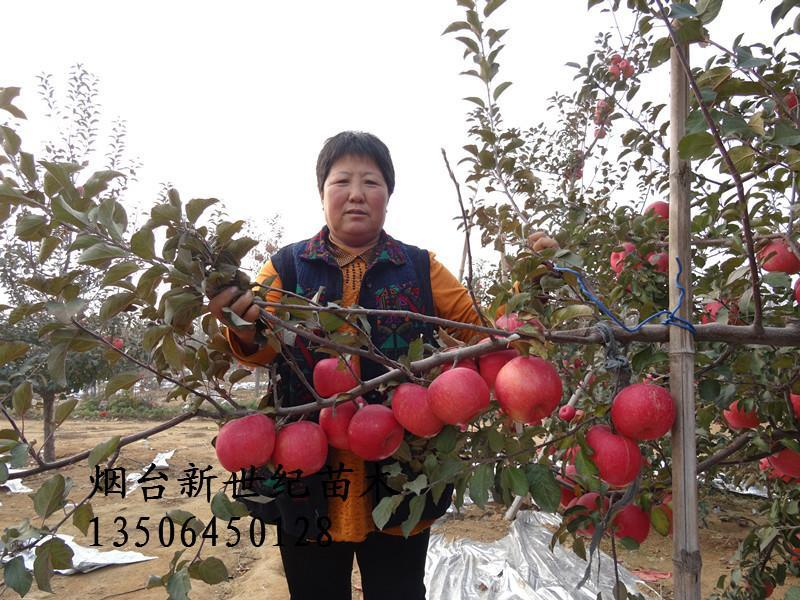apple: (495, 353, 562, 424), (426, 366, 488, 428), (610, 381, 674, 441), (270, 421, 329, 478), (215, 414, 274, 471), (586, 426, 640, 484), (348, 404, 401, 458), (393, 383, 444, 436), (311, 355, 360, 399), (572, 493, 612, 534), (609, 505, 649, 546), (757, 240, 800, 275)
